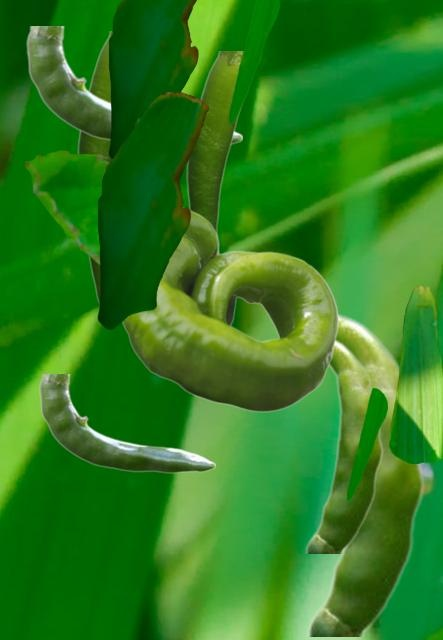green_chili: (122, 209, 337, 411), (304, 309, 425, 635), (26, 26, 241, 146), (303, 337, 383, 552), (39, 374, 214, 472), (186, 51, 251, 231), (77, 31, 111, 303)
